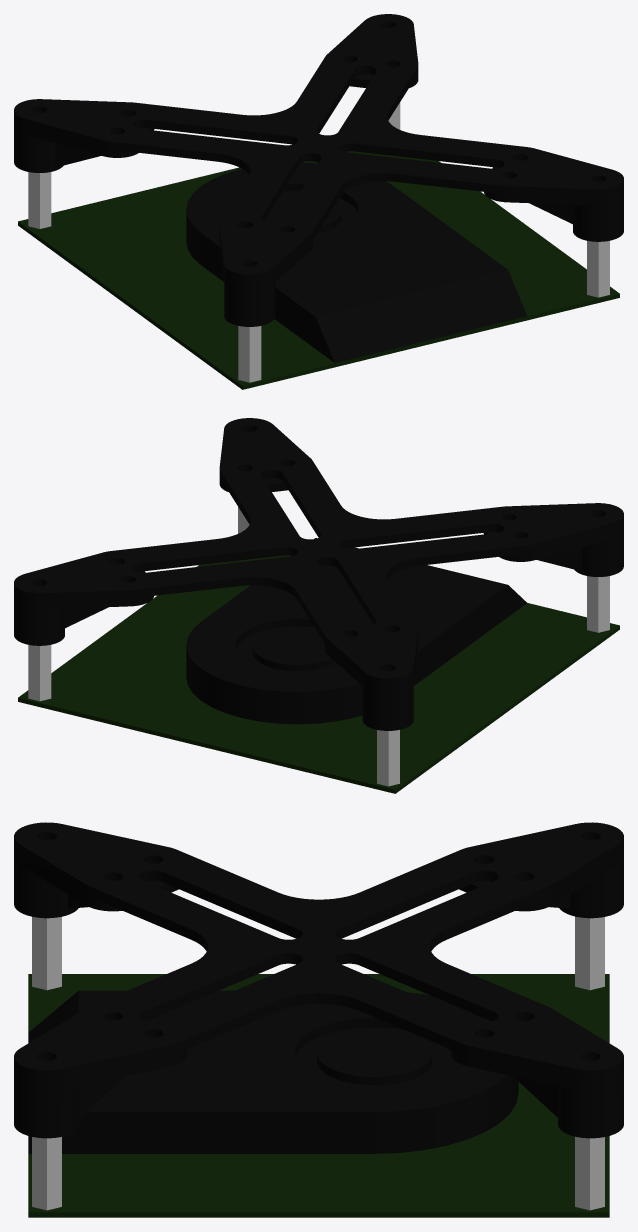
The model's file is f330_nuc.dae.
The picture shows the model from 3 angles, top to bottom: view 1: azimuth 30°, elevation 25°; view 2: azimuth 150°, elevation 25°; view 3: azimuth 270°, elevation 25°; orthographic projection. The views are drawn at different scales.
Visible parts, largest first — view 1: f330_nuc_holder; view 2: f330_nuc_holder; view 3: f330_nuc_holder.
Boxes of the visible parts, x1,y1,x2,y2 form: f330_nuc_holder: (14,14,623,389); f330_nuc_holder: (14,418,623,793); f330_nuc_holder: (14,822,623,1217).
Size of the model in its own units: 0.102 by 0.106 by 0.0291.
